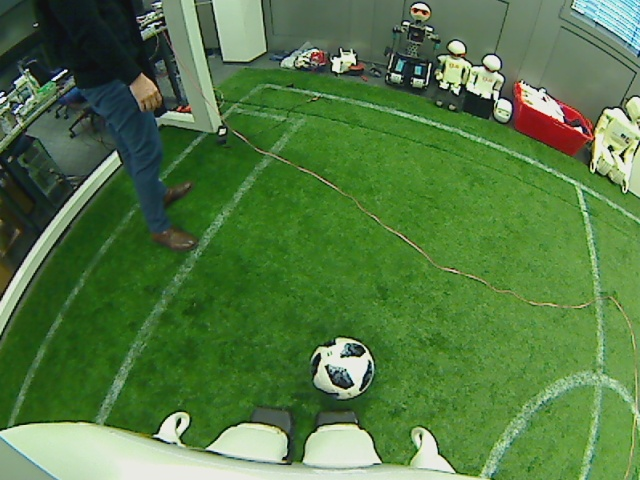ball: (308, 336, 376, 400)
